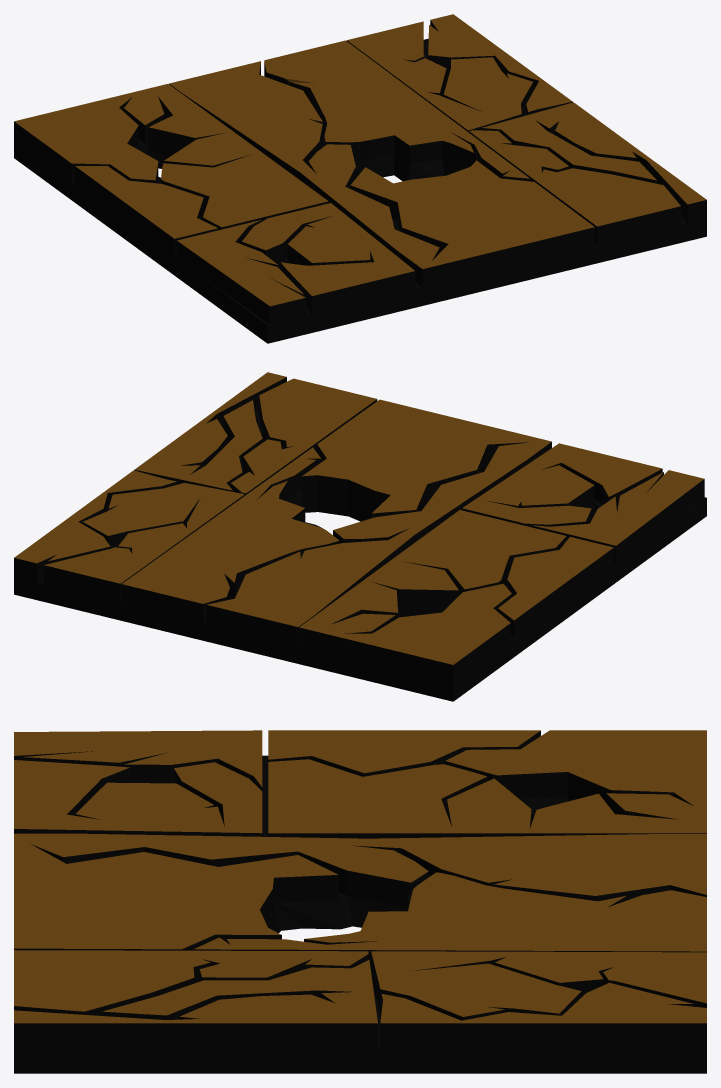
The model's file is degats_2.fbx.
The picture shows the model from 3 angles, top to bottom: view 1: azimuth 30°, elevation 25°; view 2: azimuth 150°, elevation 25°; view 3: azimuth 270°, elevation 25°; orthographic projection. The views are drawn at different scales.
Visible parts, largest first — view 1: fisuréeV2; view 2: fisuréeV2; view 3: fisuréeV2.
Part boxes in pixels (x1,y1,x2,y2): fisuréeV2: (14,14,706,343); fisuréeV2: (14,372,706,701); fisuréeV2: (14,730,706,1073).
Size of the model in its own units: 50 by 50 by 4.
